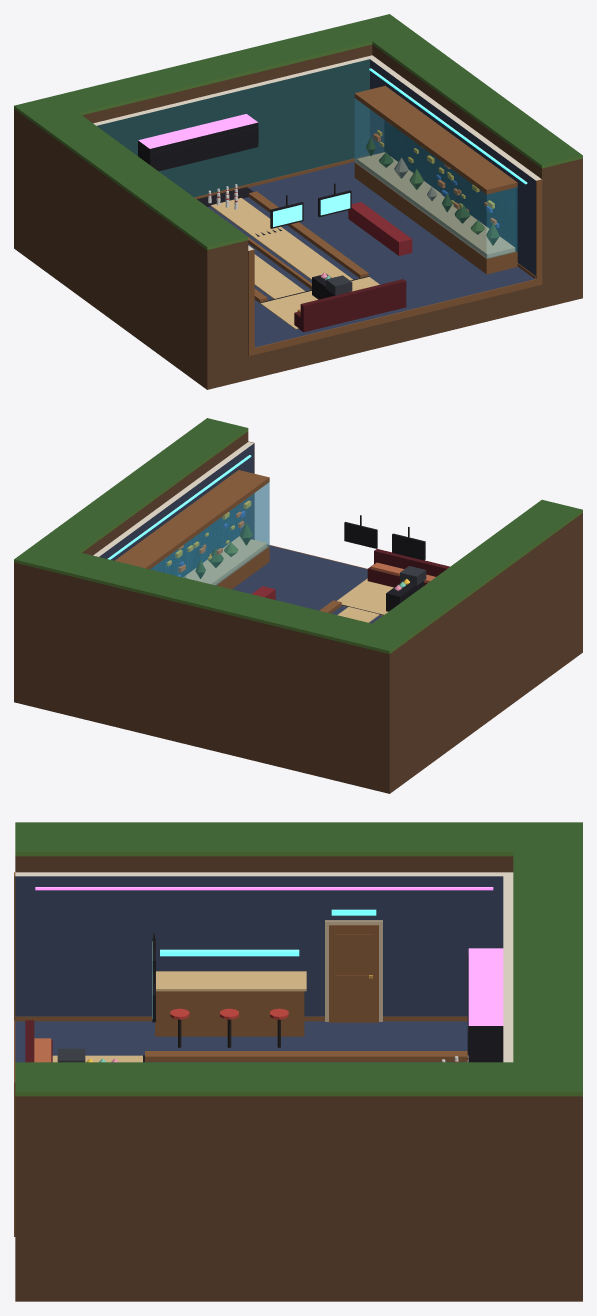
File: map-bowling.glb
The picture shows the model from 3 angles, top to bottom: view 1: azimuth 30°, elevation 25°; view 2: azimuth 150°, elevation 25°; view 3: azimuth 270°, elevation 25°; orthographic projection. The views are drawn at different scales.
Visible parts, largest first — view 1: Bowling_Earth, Walls, Floor_Slab, Aquarium_Base, Bowling_Lanes, Aquarium_Glass, Bowling_Seats, Aquarium_Fish, Aquarium_Bench, Score_Screens, Ball_Return, Neon_Strips; view 2: Bowling_Earth, Aquarium_Base, Aquarium_Glass, Floor_Slab, Walls, Bowling_Lanes, Bowling_Seats, Score_Screens, Aquarium_Fish, Ball_Return, Neon_Strips; view 3: Bowling_Earth, Walls, Floor_Slab, Snack_Bar, Bowling_Lanes, Cinema_Door, Neon_Strips, Bowling_Seats.
Boxes of the visible parts, box(x1,y1,x2,y2) form: Bowling_Earth: box(14, 14, 582, 389); Walls: box(93, 55, 542, 356); Floor_Slab: box(208, 161, 534, 347); Aquarium_Base: box(354, 85, 517, 274); Bowling_Lanes: box(138, 114, 379, 329); Aquarium_Glass: box(354, 98, 516, 258); Bowling_Seats: box(294, 279, 406, 332); Aquarium_Fish: box(366, 122, 499, 245); Aquarium_Bench: box(348, 202, 412, 255); Score_Screens: box(270, 183, 351, 228); Ball_Return: box(312, 272, 352, 299); Neon_Strips: box(369, 68, 527, 184); Bowling_Earth: box(14, 418, 582, 793); Aquarium_Base: box(115, 470, 269, 589); Aquarium_Glass: box(150, 482, 269, 585); Floor_Slab: box(232, 545, 382, 623); Walls: box(93, 441, 367, 569); Bowling_Lanes: box(319, 578, 393, 622); Bowling_Seats: box(367, 549, 449, 587); Score_Screens: box(344, 515, 425, 560); Aquarium_Fish: box(166, 500, 252, 578); Ball_Return: box(386, 566, 426, 611); Neon_Strips: box(107, 455, 251, 559); Bowling_Earth: box(15, 822, 582, 1301); Walls: box(14, 872, 513, 1236); Floor_Slab: box(15, 1021, 467, 1062); Snack_Bar: box(155, 949, 306, 1047); Bowling_Lanes: box(52, 948, 503, 1062); Cinema_Door: box(325, 909, 382, 1022); Neon_Strips: box(35, 887, 493, 890); Bowling_Seats: box(25, 1020, 52, 1062).
Size of the model in its own units: 12.8 by 4.65 by 11.43.
